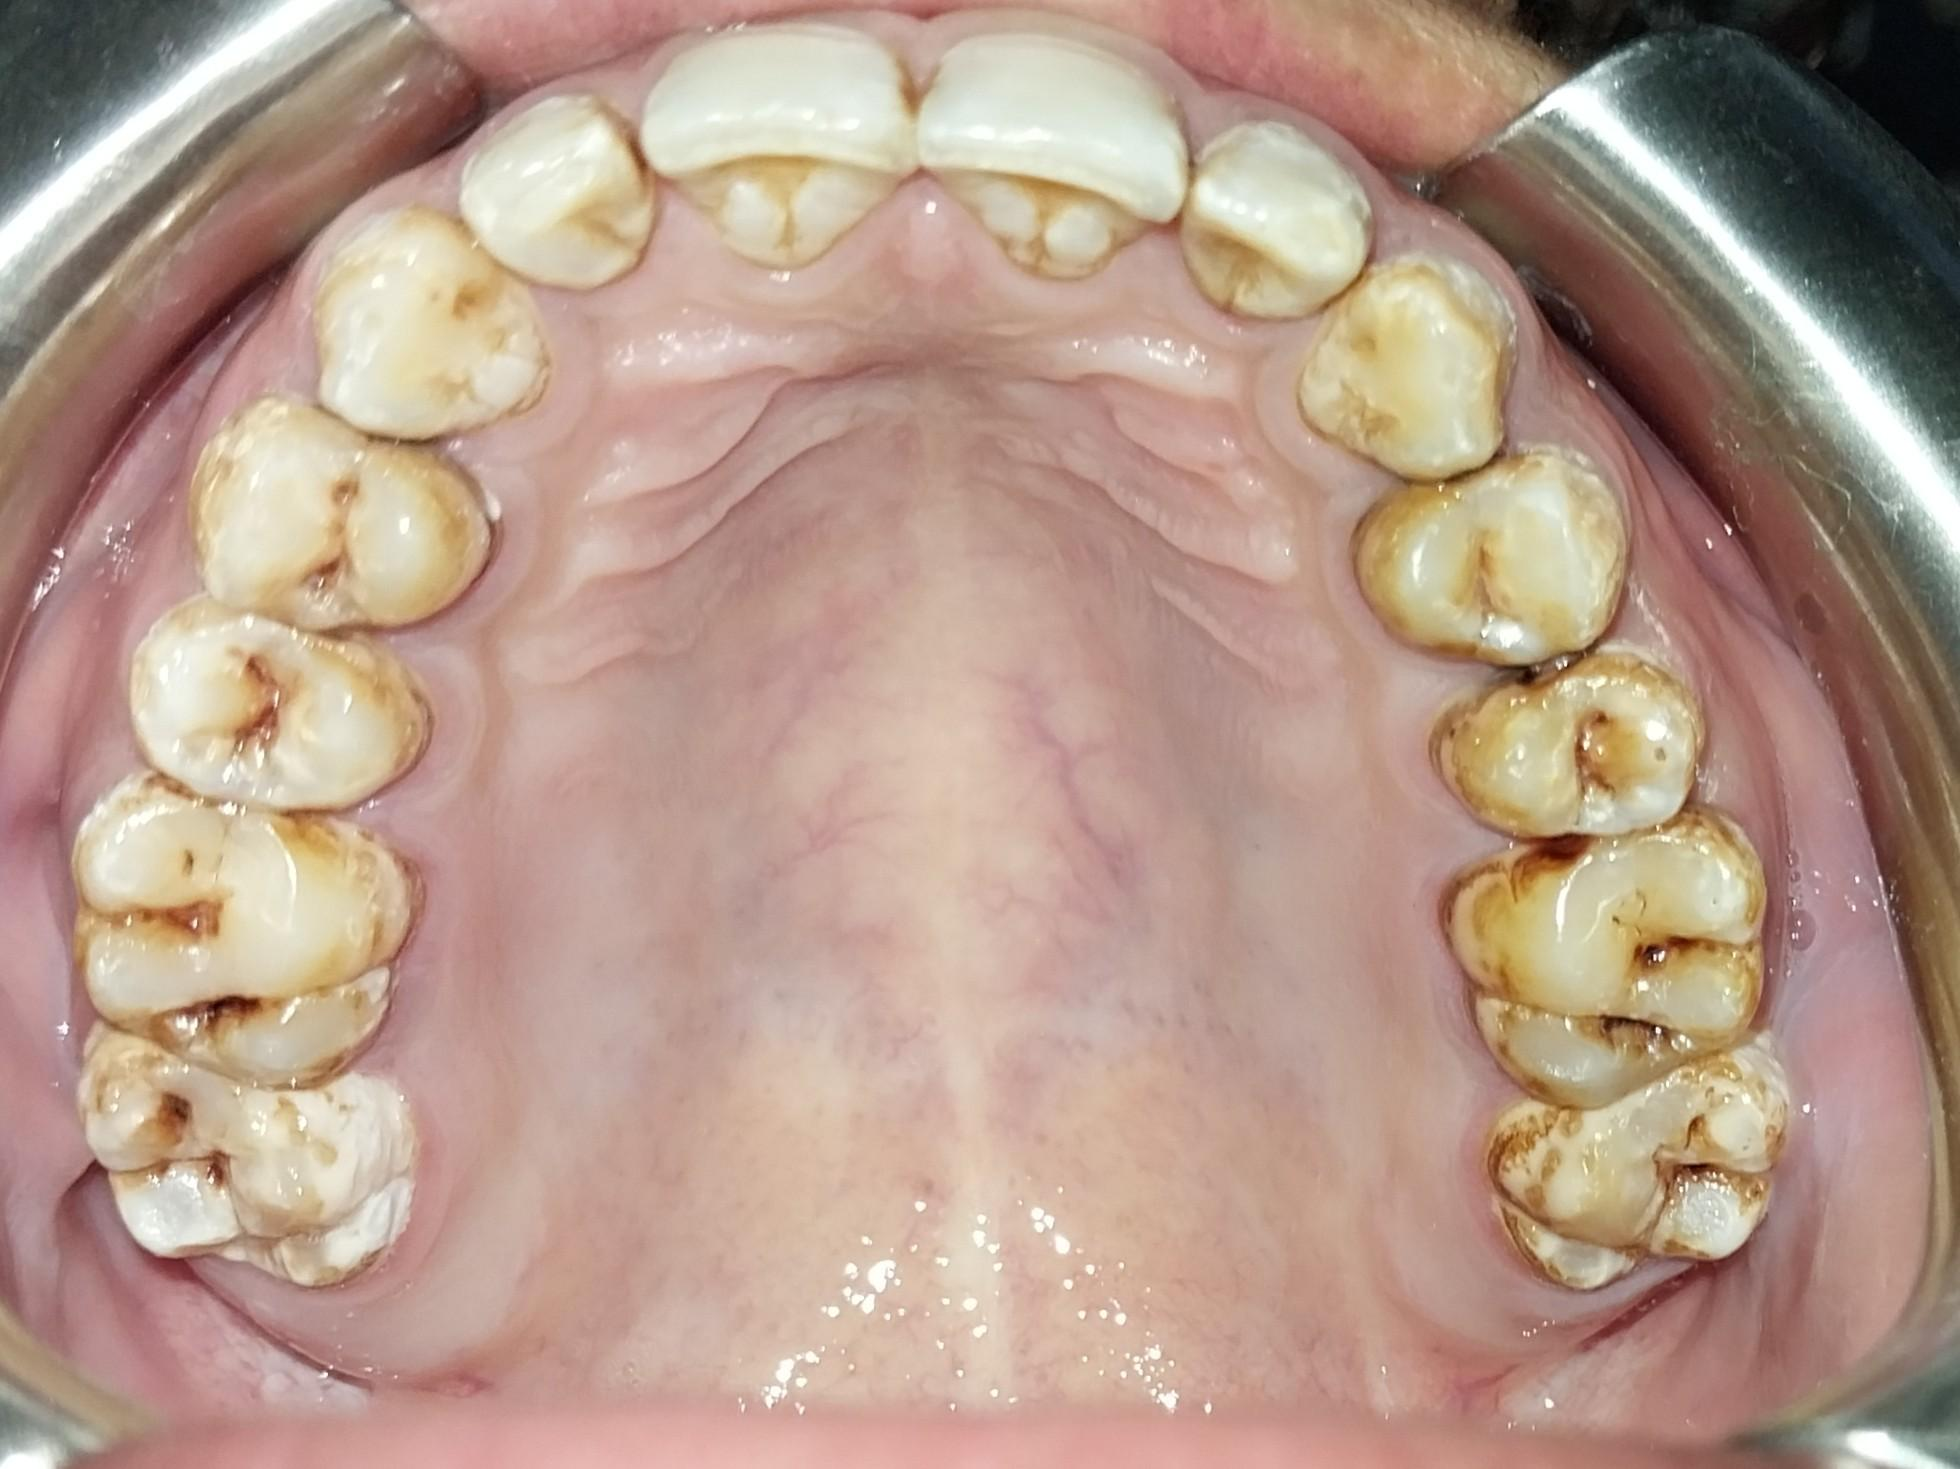D: (66, 786, 400, 1086), (1448, 816, 1771, 1106), (81, 1031, 418, 1284), (1501, 1059, 1780, 1289), (1431, 669, 1710, 839)
